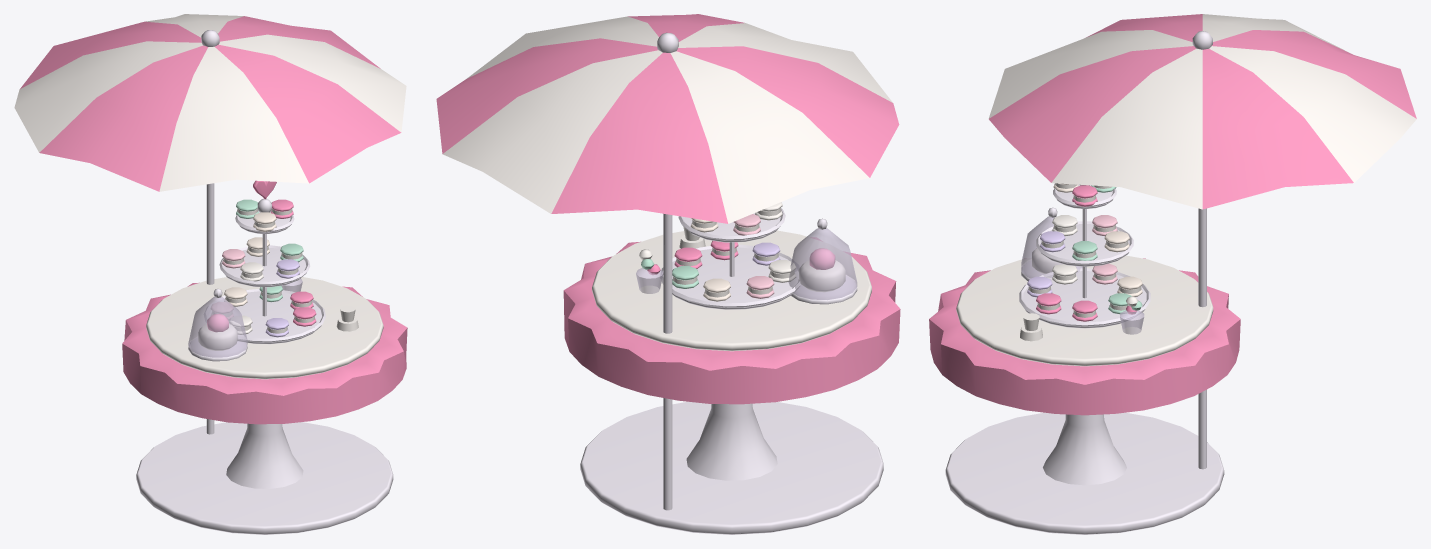
Rendered from macaron_stand.glb.
3 views of the same model, side by side, from view 1: azimuth 30°, elevation 25°; view 2: azimuth 150°, elevation 25°; view 3: azimuth 270°, elevation 25° (orthographic). The views are drawn at different scales.
Visible parts, largest first — view 1: macaron_stand; view 2: macaron_stand; view 3: macaron_stand.
Boxes of the visible parts, x1,y1,x2,y2 form: macaron_stand: (14,14,407,534); macaron_stand: (436,14,900,534); macaron_stand: (929,14,1416,534).
Bounding box in the file's own units: 2 × 2.29 × 2.28.
